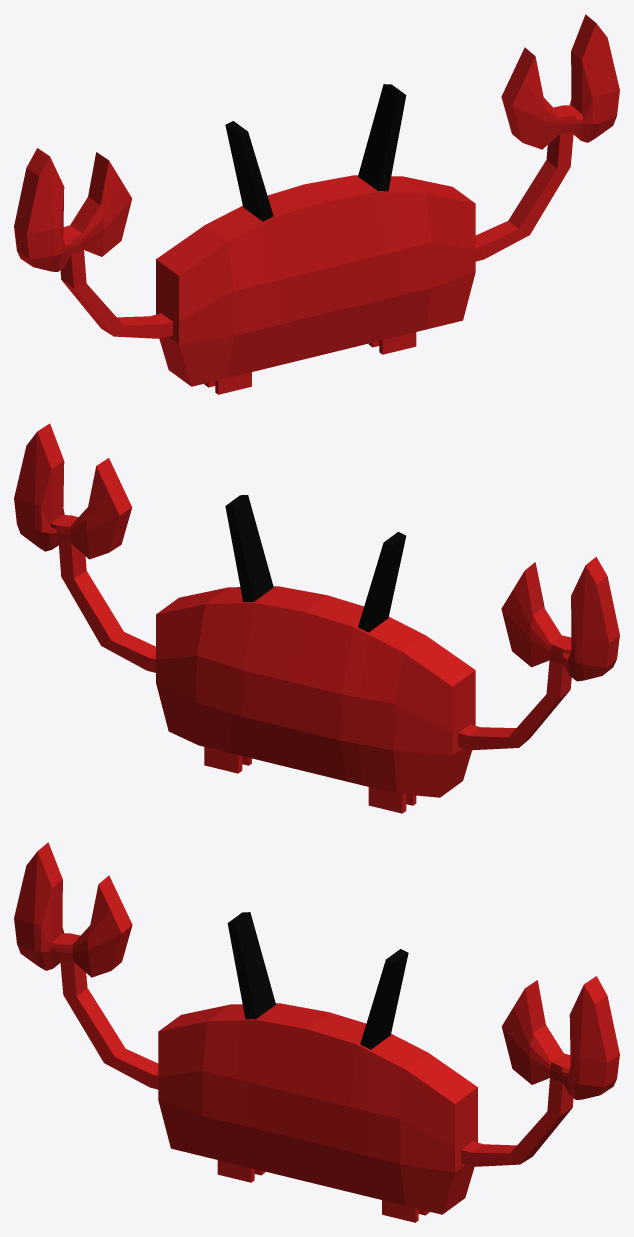
Rendered from crab.fbx.
3 renders of one model, top to bottom at view 1: azimuth 30°, elevation 25°; view 2: azimuth 150°, elevation 25°; view 3: azimuth 330°, elevation 25°, orthographic.
Visible parts, largest first — view 1: Cube; view 2: Cube; view 3: Cube.
Part boxes in pixels (bbox=[...]): Cube: bbox=[14, 14, 619, 394]; Cube: bbox=[14, 423, 619, 813]; Cube: bbox=[14, 842, 619, 1222].
Bounding box in the file's own units: 109 × 50 × 13.16.
